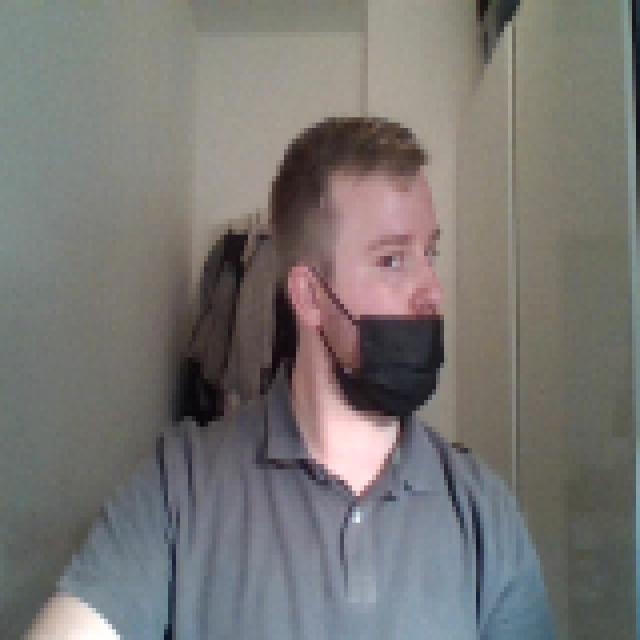hairnet: (272, 235, 452, 432)
